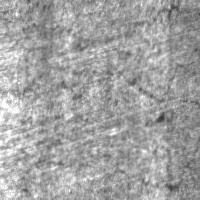crazing: (26, 6, 179, 105)
